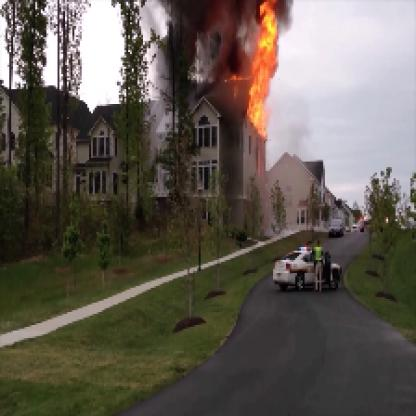Fire: (227, 2, 284, 134)
Smoke: (163, 2, 247, 106)
